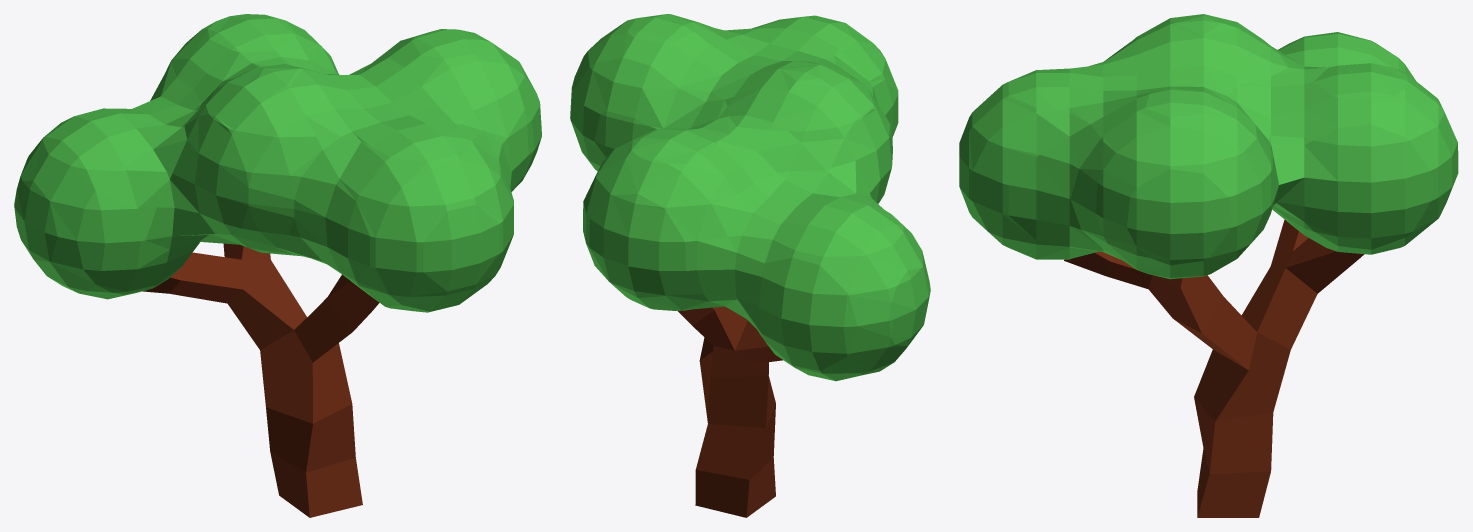
The model's file is Tree.glb.
3 views of the same model, side by side, from view 1: azimuth 30°, elevation 25°; view 2: azimuth 150°, elevation 25°; view 3: azimuth 270°, elevation 25° (orthographic). The views are drawn at different scales.
Visible parts, largest first — view 1: Mball.005, Cube; view 2: Mball.005, Cube; view 3: Mball.005, Cube.
Part boxes in pixels (x1,y1,x2,y2): Mball.005: (14, 14, 541, 312); Cube: (143, 243, 379, 517); Mball.005: (570, 14, 930, 381); Cube: (678, 306, 782, 517); Mball.005: (959, 14, 1458, 279); Cube: (1064, 219, 1363, 517).
Bounding box in the file's own units: 7.67 × 7.82 × 7.73.
